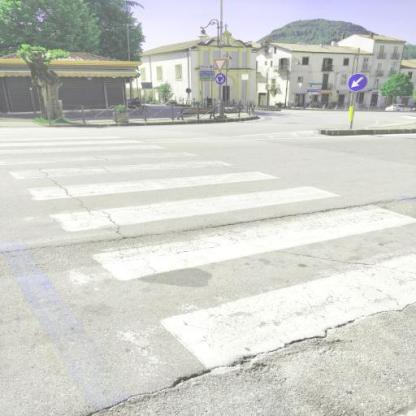crosswalk: (17, 168, 346, 237)
